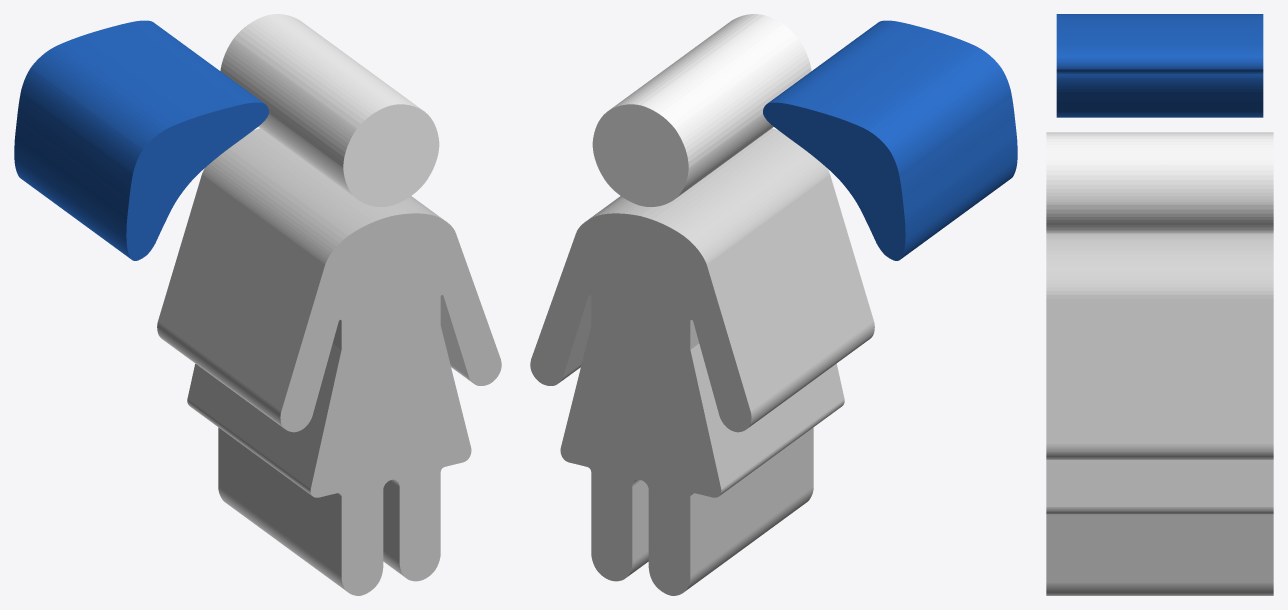
3 views of the same model, side by side, from view 1: azimuth 30°, elevation 25°; view 2: azimuth 150°, elevation 25°; view 3: azimuth 270°, elevation 25° (orthographic). The views are drawn at different scales.
Parts seen in each view (by area): view 1: U+1F6BA_layer01_obj01, U+1F6BA_layer00_obj00, U+1F6BA_layer01_obj00; view 2: U+1F6BA_layer01_obj01, U+1F6BA_layer00_obj00, U+1F6BA_layer01_obj00; view 3: U+1F6BA_layer01_obj01, U+1F6BA_layer01_obj00, U+1F6BA_layer00_obj00.
Boxes of the visible parts, x1,y1,x2,y2 form: U+1F6BA_layer01_obj01: [157, 128, 501, 595]; U+1F6BA_layer00_obj00: [14, 20, 268, 260]; U+1F6BA_layer01_obj00: [220, 14, 439, 206]; U+1F6BA_layer01_obj01: [530, 128, 874, 595]; U+1F6BA_layer00_obj00: [763, 20, 1017, 260]; U+1F6BA_layer01_obj00: [592, 14, 811, 206]; U+1F6BA_layer01_obj01: [1046, 233, 1273, 595]; U+1F6BA_layer01_obj00: [1046, 132, 1273, 233]; U+1F6BA_layer00_obj00: [1056, 14, 1263, 117].
Size of the model in its own units: 0.1903 by 0.2534 by 0.11.
